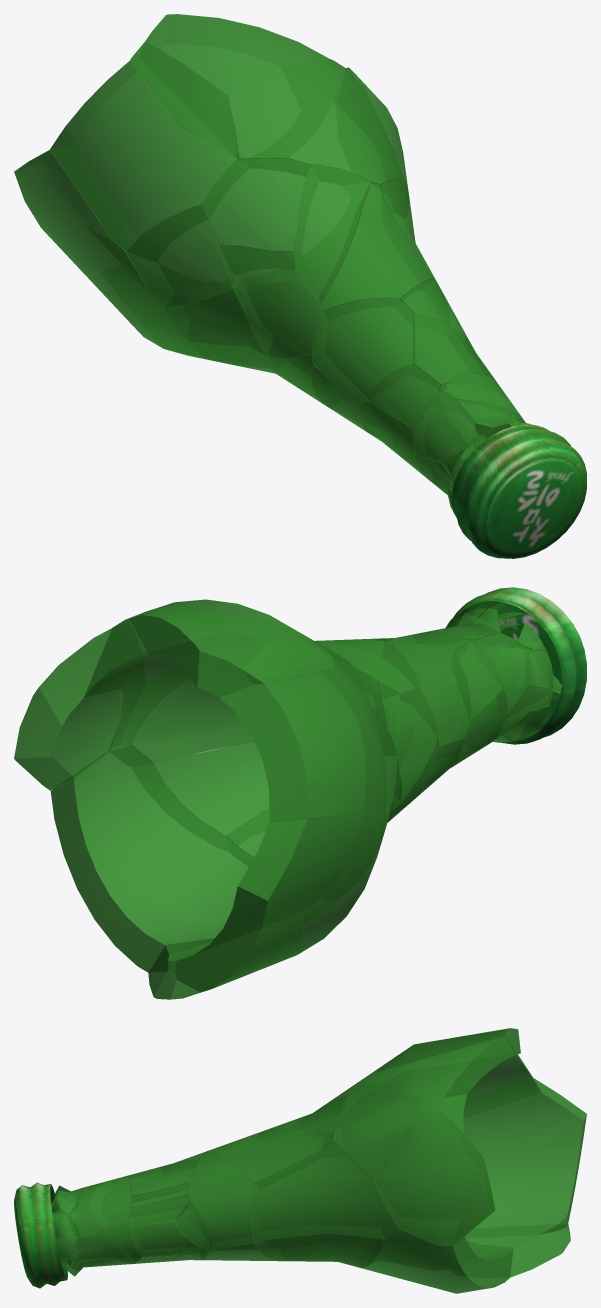
File: cham_isul_handle (2) 1.fbx
3 renders of one model, top to bottom at view 1: azimuth 30°, elevation 25°; view 2: azimuth 150°, elevation 25°; view 3: azimuth 270°, elevation 25°, orthographic. The views are drawn at different scales.
Parts seen in each view (by area): view 1: Cylinder.002_cell.076; view 2: Cylinder.002_cell.076; view 3: Cylinder.002_cell.076.
Part boxes in pixels (x1=…): Cylinder.002_cell.076: x1=14, y1=14, x2=586, y2=558; Cylinder.002_cell.076: x1=14, y1=587, x2=586, y2=999; Cylinder.002_cell.076: x1=14, y1=1028, x2=586, y2=1293.
Bounding box in the file's own units: 155 × 163 × 350.
